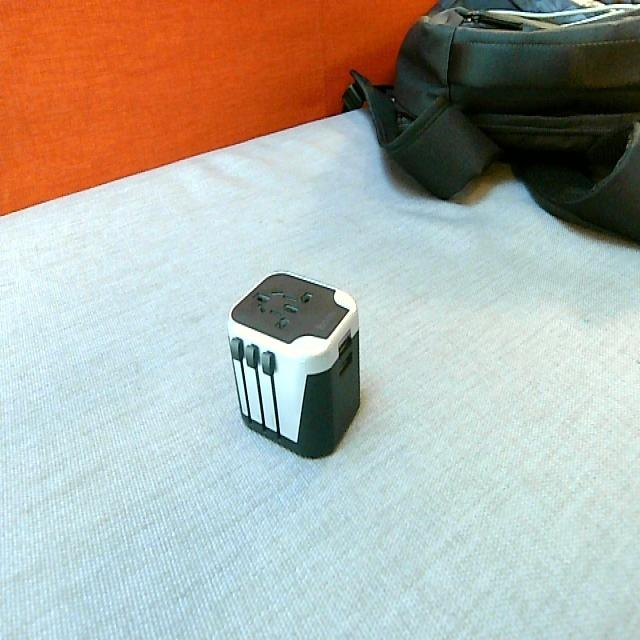adapter: (226, 269, 361, 459)
